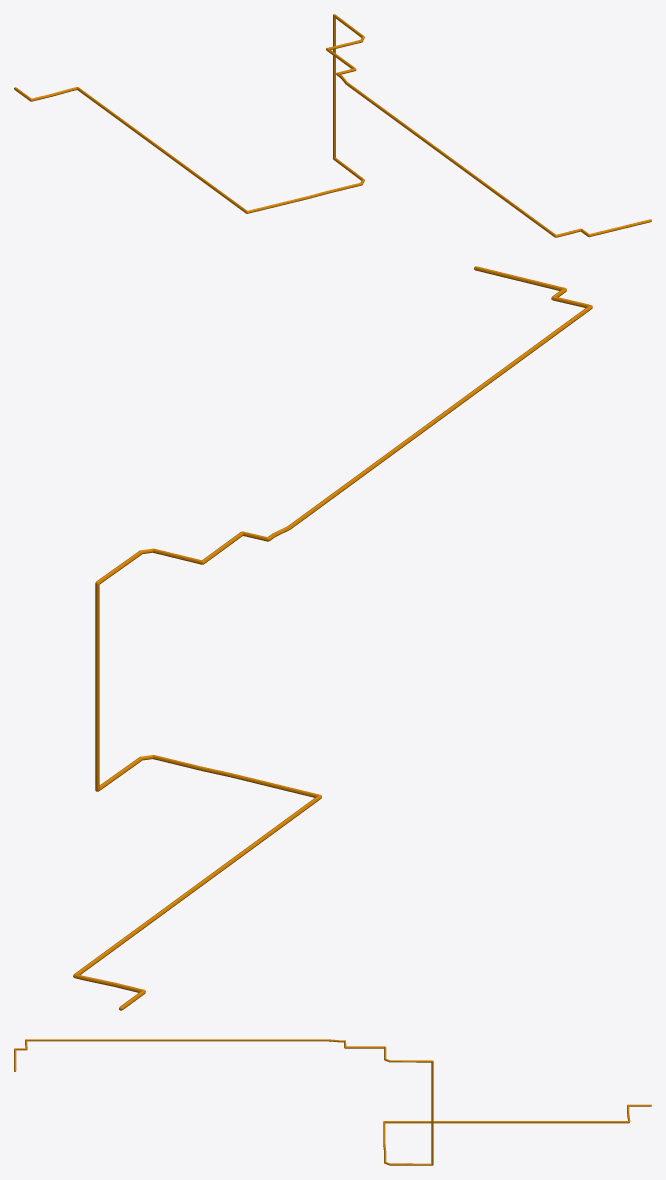
3 renders of one model, top to bottom at view 1: azimuth 30°, elevation 25°; view 2: azimuth 150°, elevation 25°; view 3: azimuth 270°, elevation 25°, orthographic. The views are drawn at different scales.
Size of the model in its own units: 1444 by 1020 by 5605.
